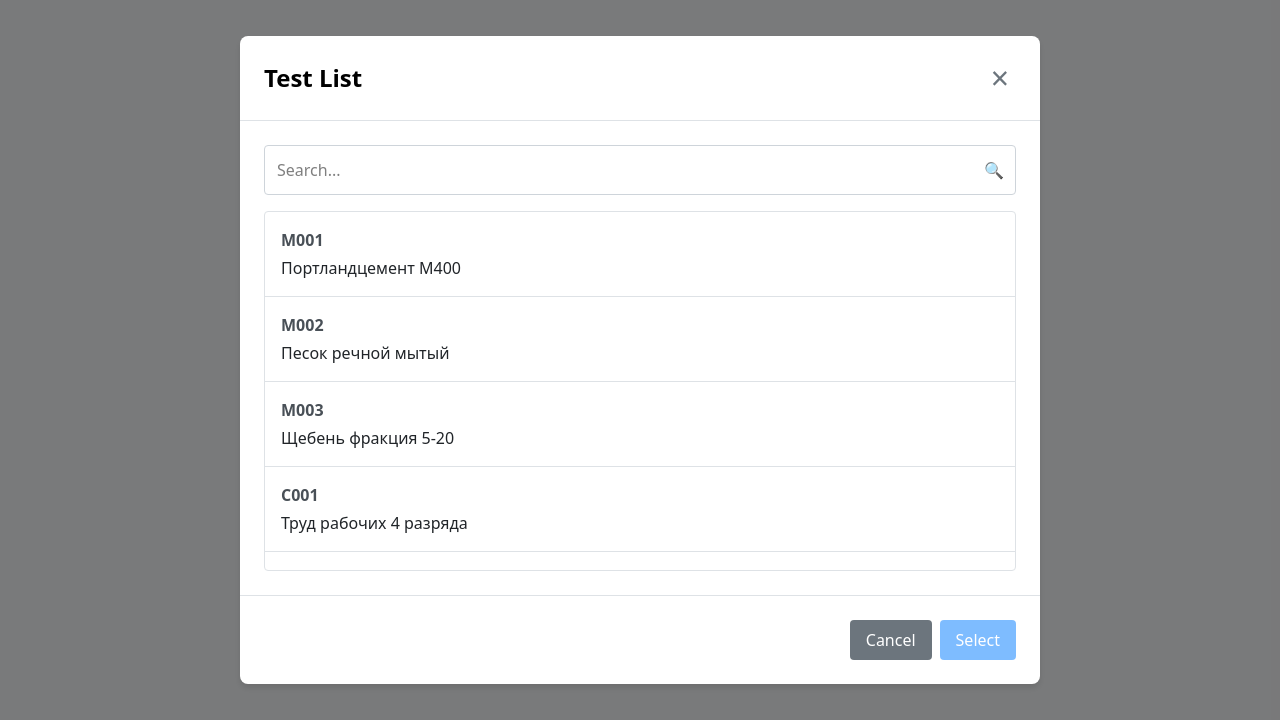
ListForm - Substring Entry Feature › should show all items when search is cleared
// First filter
In the field with class "search-input": [640, 170] box x1=264 y1=145 x2=1016 y2=195, type "M00"
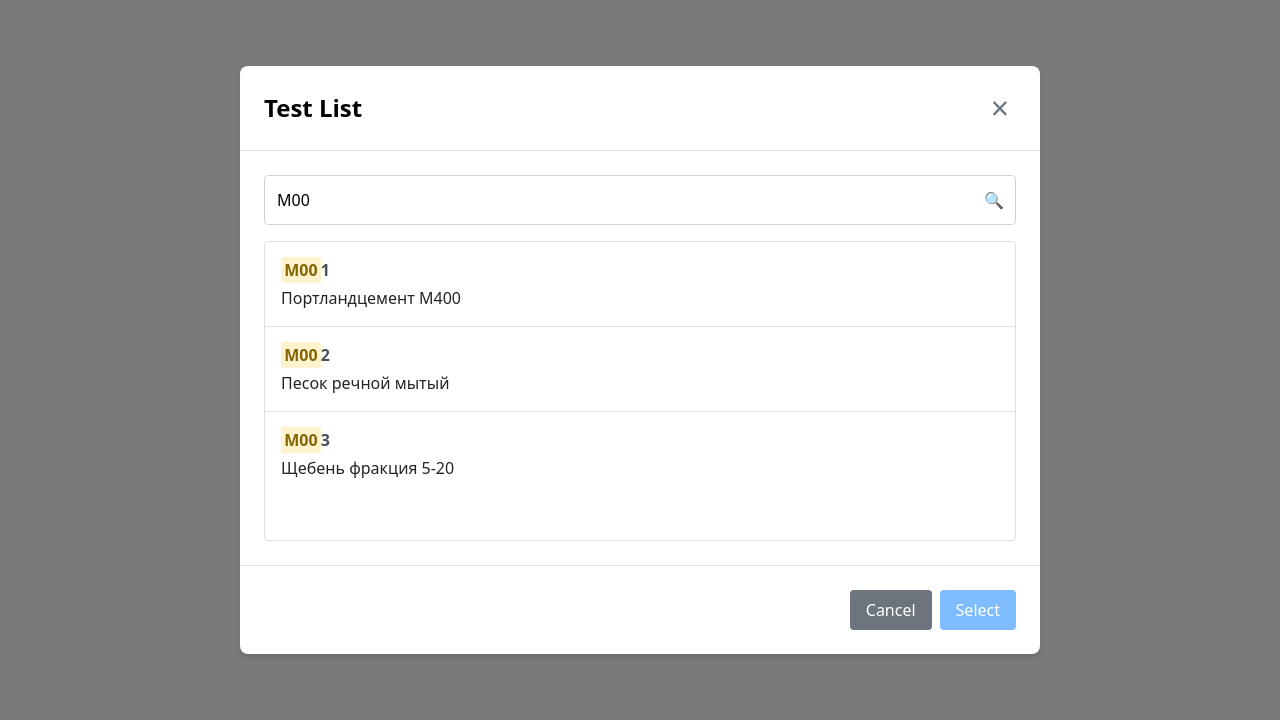
Now the number of elements with class "item-row" is 3, box x1=265 y1=242 x2=1015 y2=327; x1=265 y1=327 x2=1015 y2=412; x1=281 y1=427 x2=454 y2=479
// Clear search
Clear the field with class "search-input": [640, 200] box x1=264 y1=175 x2=1016 y2=225
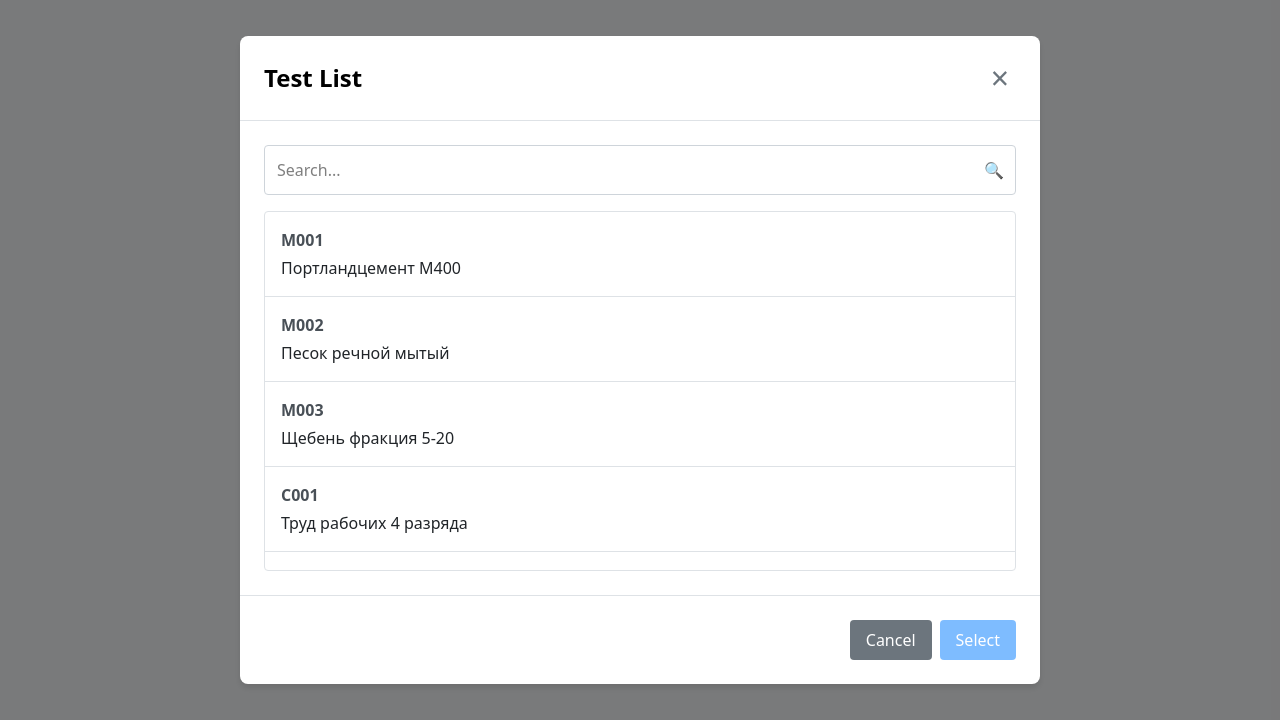
Now the number of elements with class "item-row" is 5
